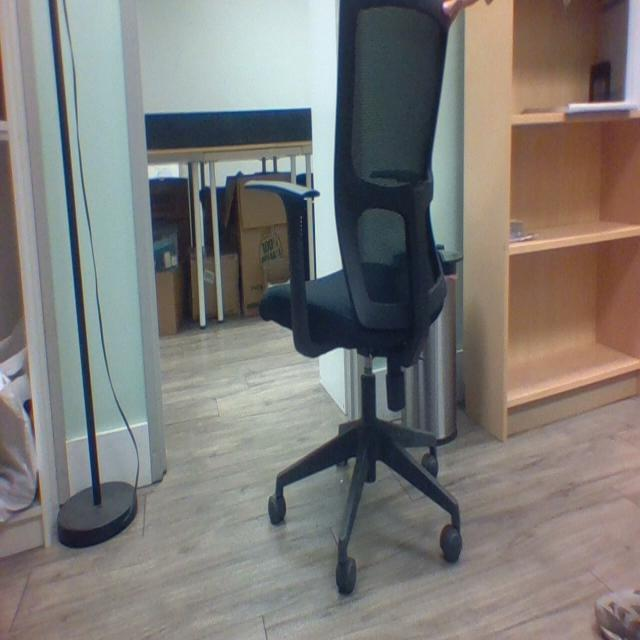chair: (250, 1, 470, 591)
